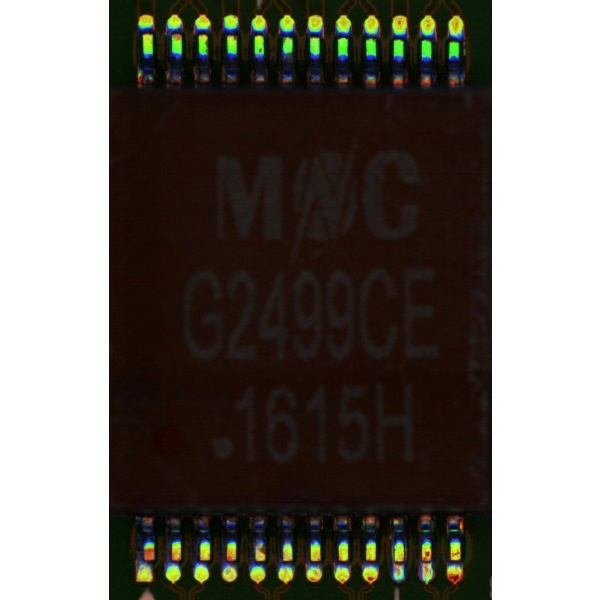Bad_podu: (420, 551, 428, 573), (395, 552, 401, 575)
